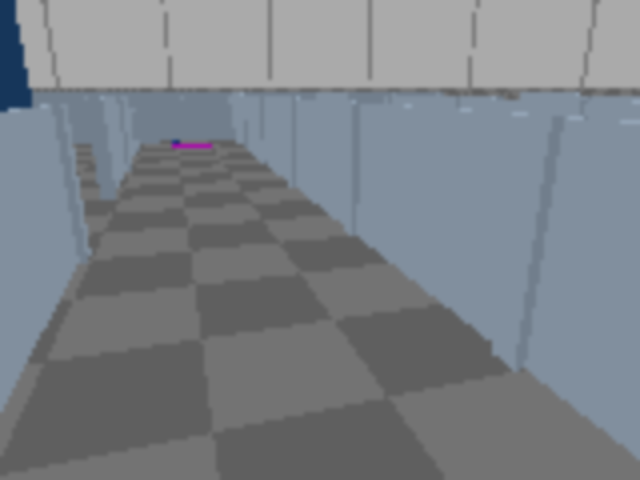person: (0, 0, 47, 200)
